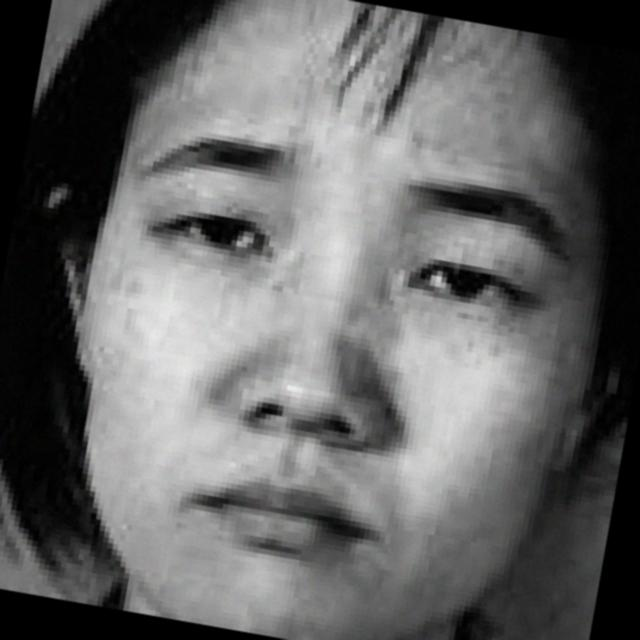sad: (5, 23, 611, 640)
